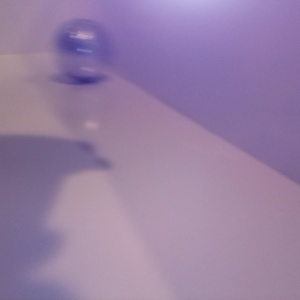alive_ball: (82, 100, 189, 206), (1, 166, 65, 300)
dead_ball: (16, 59, 122, 166), (119, 75, 191, 142)
